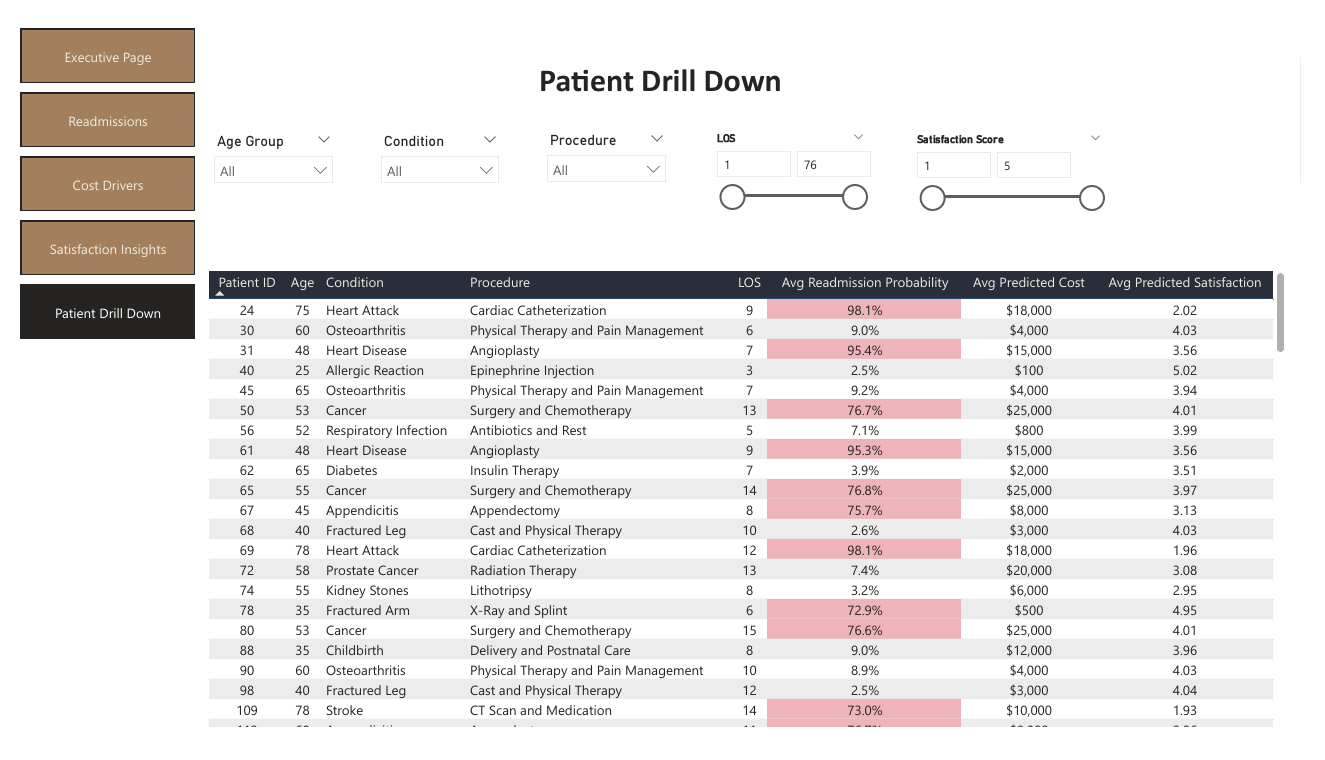

Layout of this report page (visuals, bound fields, positions):
{"tool":"powerbi","page":{"name":"Patient Drill Down","canvas":[1280,720],"ordinal":4},"visuals":[{"type":"slicer","fields":{"Values":["phase1_cleaned.age_group"]},"box":[183,106,138.9,86.7],"z":0},{"type":"slicer","fields":{"Values":["phase1_cleaned.condition"]},"box":[349.6,106,138.9,86.7],"z":1000},{"type":"slicer","fields":{"Values":["phase1_cleaned.procedure"]},"box":[516.2,105.3,138.9,89.8],"z":2000},{"type":"slicer","fields":{"Values":["phase1_cleaned.length_of_stay"]},"box":[682.8,105.3,172,90],"z":3000},{"type":"tableEx","fields":{"Values":["phase1_cleaned.patient_id","phase1_cleaned.age","phase1_cleaned.condition","phase1_cleaned.procedure","phase1_cleaned.length_of_stay","Predictions.Avg Readmission Probability","Predictions.Avg Predicted Cost","Predictions.Avg Predicted Satisfaction"]},"box":[183,245,1086,465],"z":4000},{"type":"slicer","fields":{"Values":["phase1_cleaned.satisfaction"]},"box":[882.6,105.8,209,87],"z":5000},{"type":"textbox","box":[384,34,511,59],"z":6000},{"type":"pageNavigator","box":[0,6.6,174.2,312.7],"z":7000}]}

Visuals, with their boxes in screenshot pixels (x1, y1, x2, y2), scaled from the page's 1280x720 canvas onto the 1325x760 screenshot:
slicer - phase1_cleaned.age_group: <bbox>189, 112, 333, 203</bbox>
slicer - phase1_cleaned.condition: <bbox>362, 112, 506, 203</bbox>
slicer - phase1_cleaned.procedure: <bbox>534, 111, 678, 206</bbox>
slicer - phase1_cleaned.length_of_stay: <bbox>707, 111, 885, 206</bbox>
tableEx - phase1_cleaned.patient_id x phase1_cleaned.age: <bbox>189, 259, 1314, 749</bbox>
slicer - phase1_cleaned.satisfaction: <bbox>914, 112, 1130, 204</bbox>
textbox: <bbox>398, 36, 926, 98</bbox>
pageNavigator: <bbox>0, 7, 180, 337</bbox>
